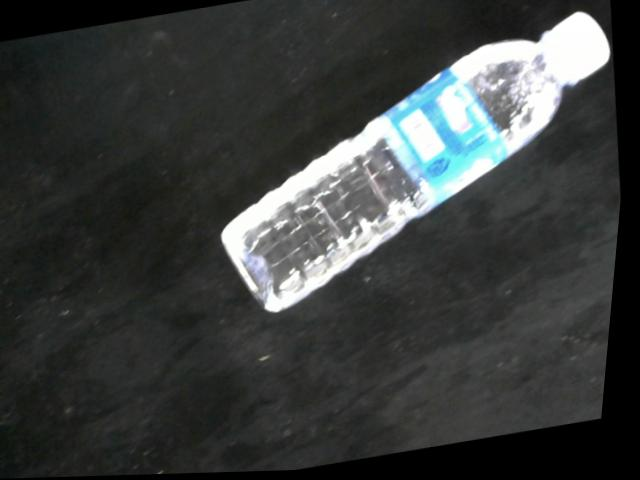bottle: (222, 14, 614, 318)
